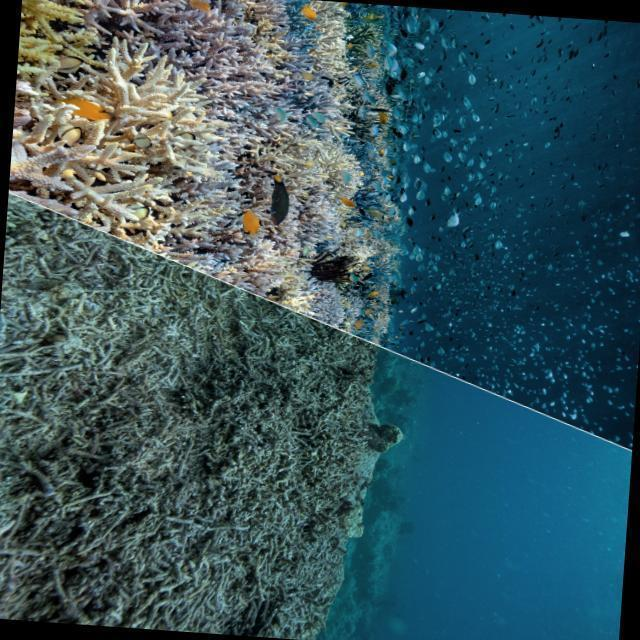Dead Coral: (0, 332, 423, 640)
